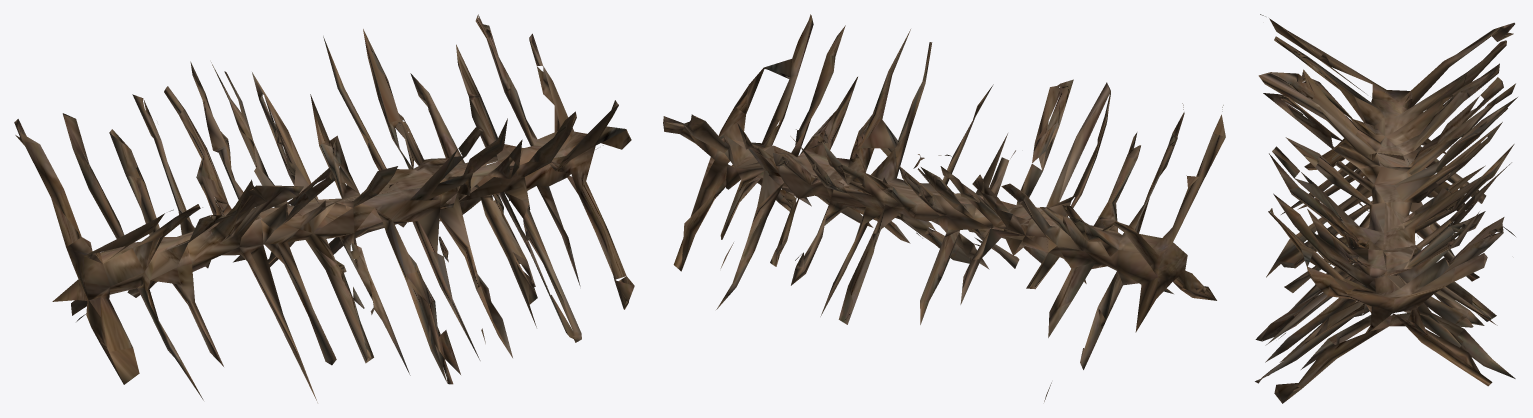
File: barrikade.glb
3 views of the same model, side by side, from view 1: azimuth 30°, elevation 25°; view 2: azimuth 150°, elevation 25°; view 3: azimuth 270°, elevation 25° (orthographic). The views are drawn at different scales.
Bounding box in the file's own units: 1.98 × 0.9114 × 1.01.
Materials: 1 (1 with a texture image).
